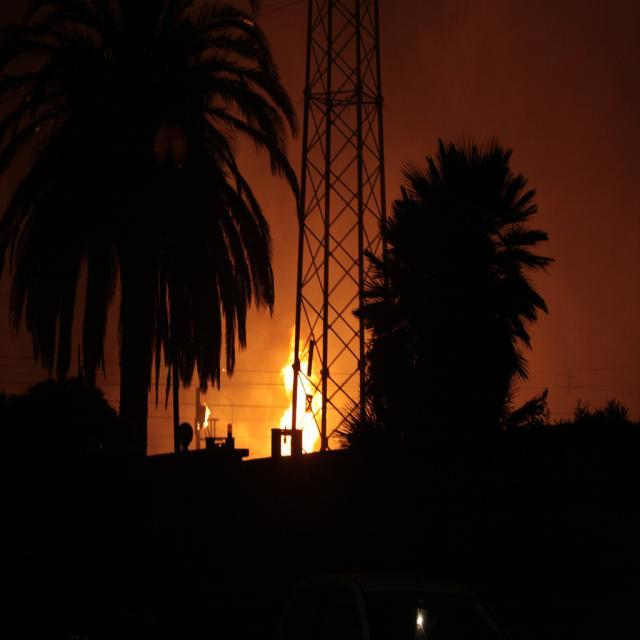Fire: (284, 346, 328, 448)
